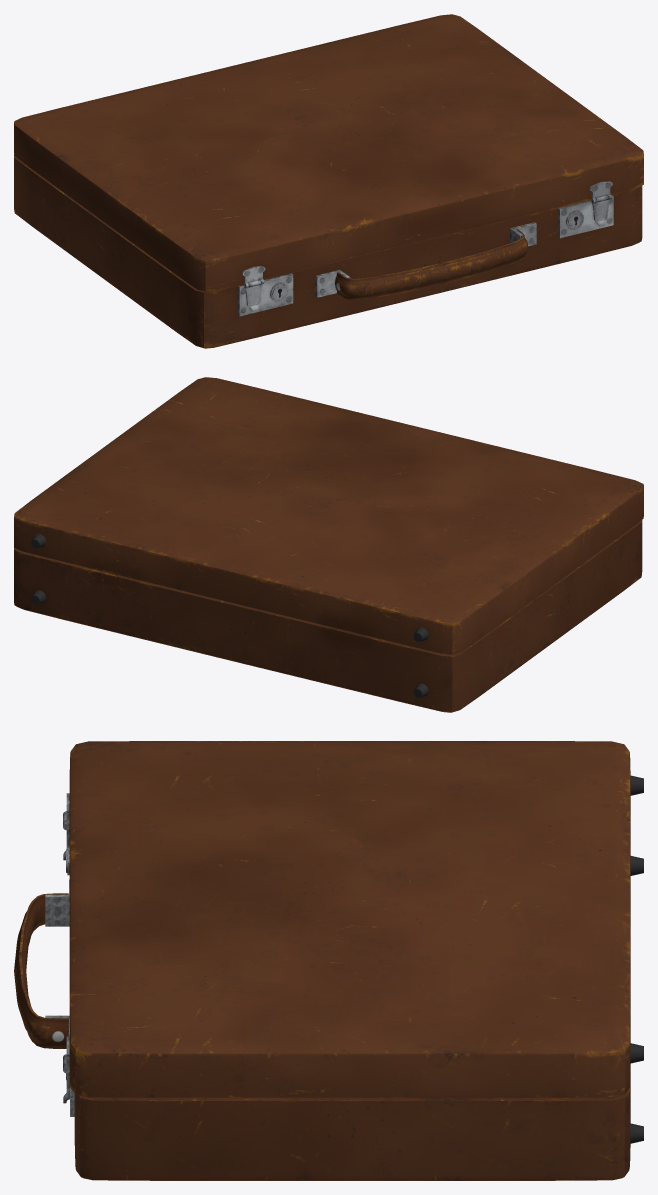
Rendered from suitcase.fbx.
The picture shows the model from 3 angles, top to bottom: view 1: azimuth 30°, elevation 25°; view 2: azimuth 150°, elevation 25°; view 3: azimuth 270°, elevation 25°; orthographic projection. The views are drawn at different scales.
Parts seen in each view (by area): view 1: suitcase; view 2: suitcase; view 3: suitcase.
Part boxes in pixels (x1=…): suitcase: x1=14, y1=14, x2=643, y2=348; suitcase: x1=14, y1=377, x2=643, y2=712; suitcase: x1=14, y1=741, x2=643, y2=1180.
Size of the model in its own units: 40 by 9.14 by 33.98.
Materials: 1 (1 with a texture image).
